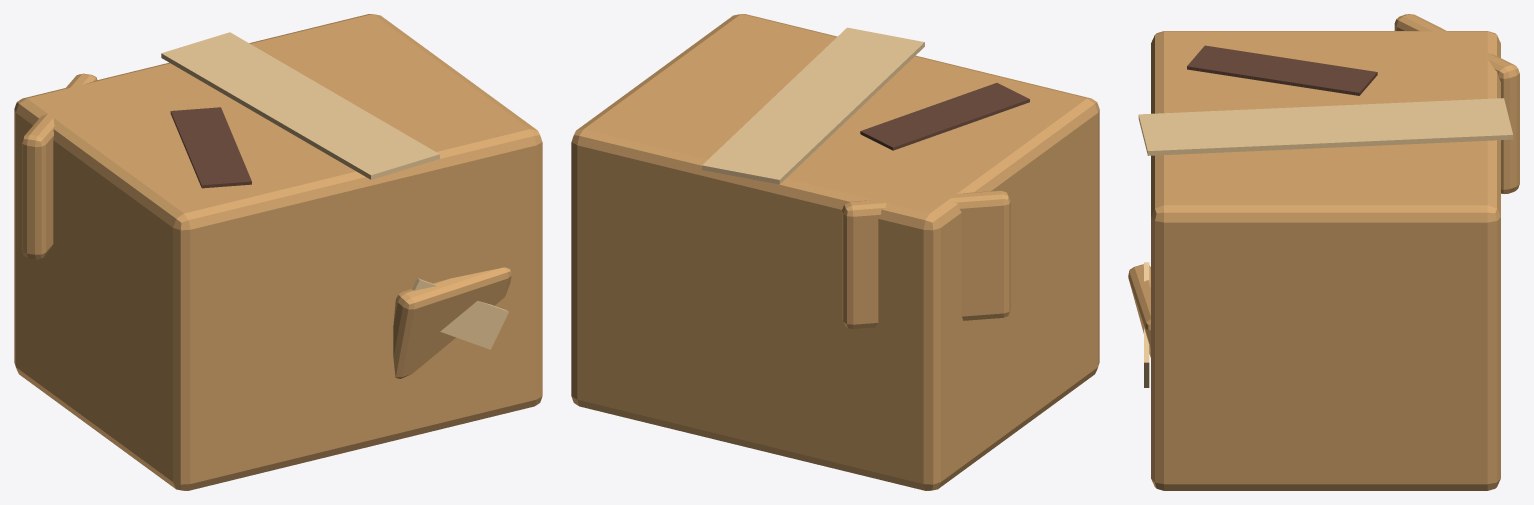
File: box_closed_damaged.glb
3 views of the same model, side by side, from view 1: azimuth 30°, elevation 25°; view 2: azimuth 150°, elevation 25°; view 3: azimuth 270°, elevation 25° (orthographic). The views are drawn at different scales.
Parts seen in each view (by area): view 1: box_closed_damaged; view 2: box_closed_damaged; view 3: box_closed_damaged.
Part boxes in pixels (x1,y1,x2,y2): box_closed_damaged: (14, 14, 542, 490); box_closed_damaged: (571, 14, 1099, 490); box_closed_damaged: (1128, 14, 1519, 490).
Bounding box in the file's own units: 0.5421 × 0.366 × 0.4478.
